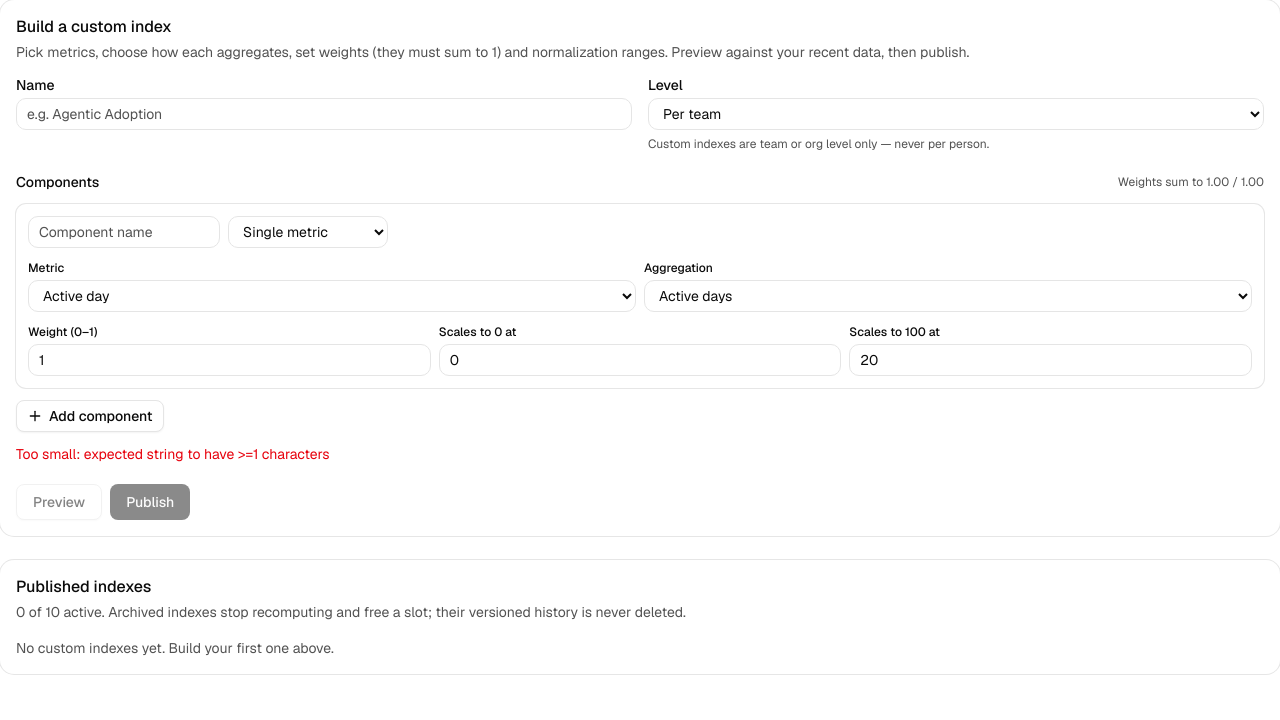
IndexWorkbench ComponentEditor accessibility › labels numerator and denominator selects distinctly in ratio mode
Select "Ratio (numerator ÷ denominator)" in the dropdown named "Component type" at (308, 232), box [228,216,388,248]
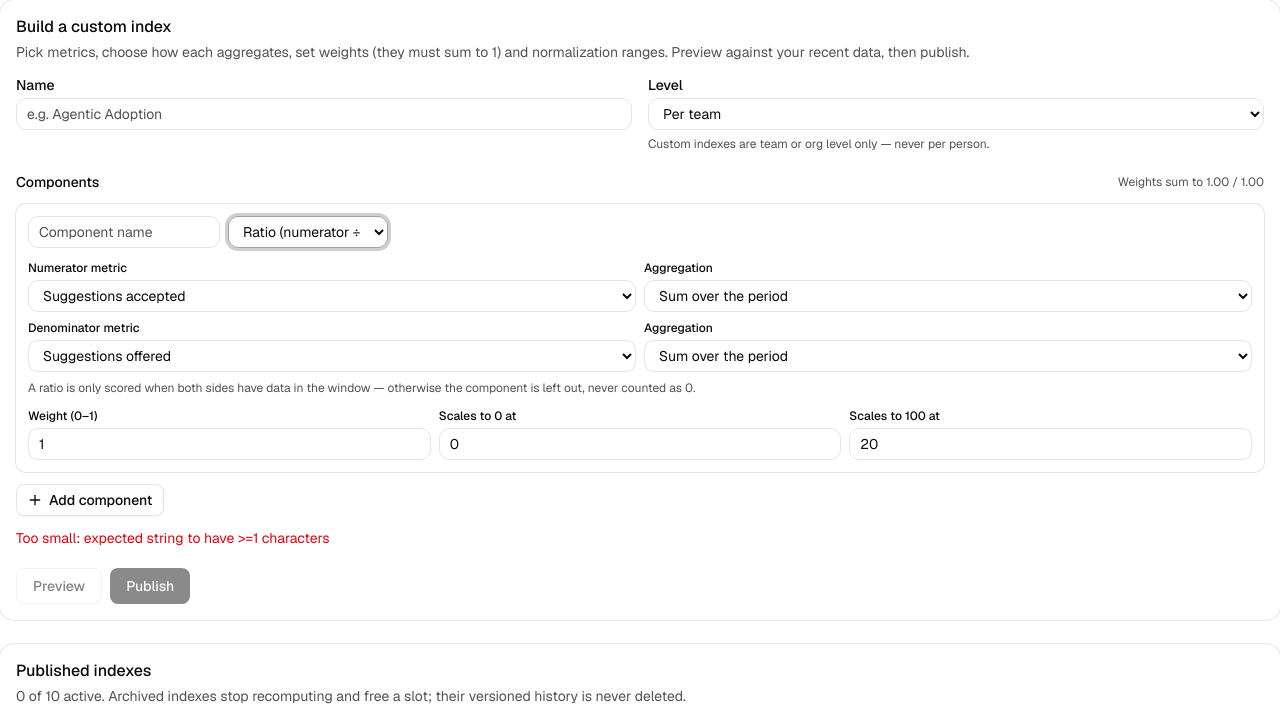
Check: the dropdown labelled "Numerator metric" is shown, box [28,280,636,312]
Check: the dropdown labelled "Denominator metric" is shown, box [28,340,636,372]
Check: the number of dropdowns labelled "Aggregation" is 2, box [644,280,1252,312]; [644,340,1252,372]
